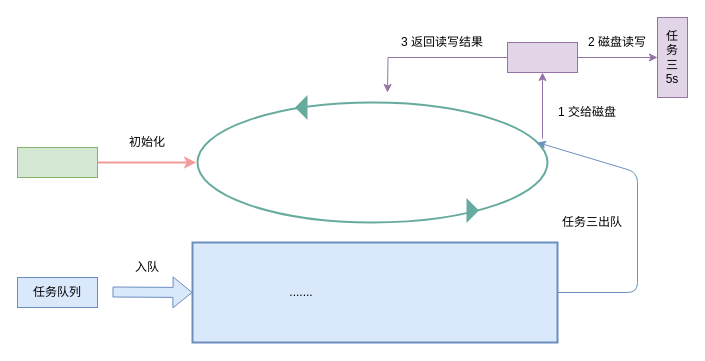
The diagram is 705 pixels wide and 361 high, and some of its shapes have lost their labels. Each missing label, with the box of its shape:
单线程: (16, 146, 98, 178)
磁盘I/O线程: (506, 42, 578, 72)
